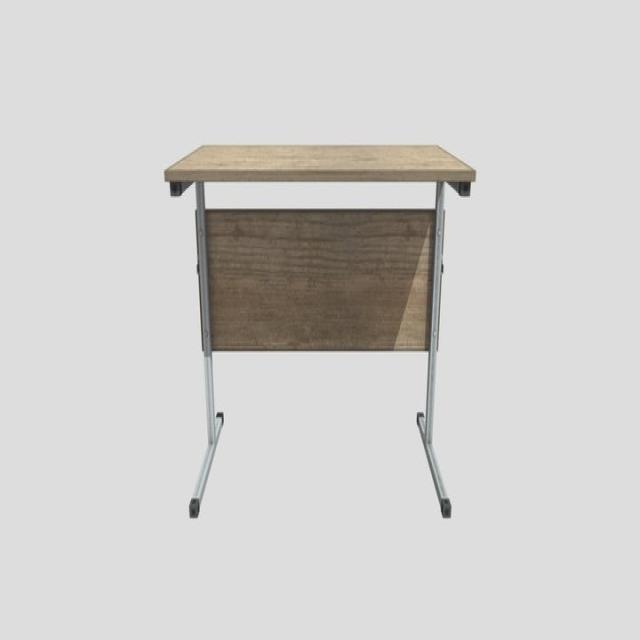table: (161, 141, 475, 518)
